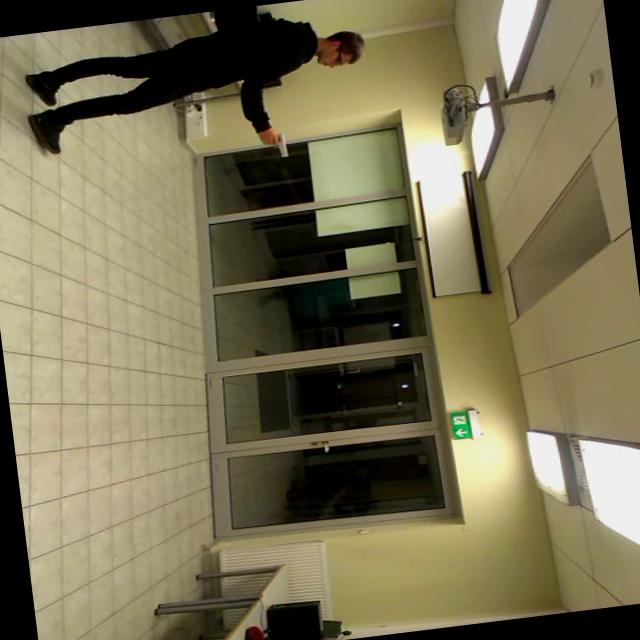handgun: (253, 130, 300, 166)
